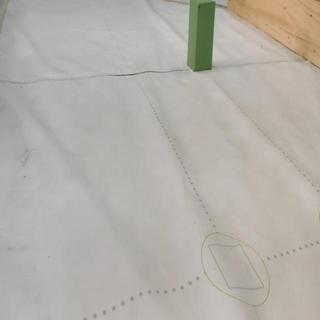greenbox: (187, 1, 215, 72)
